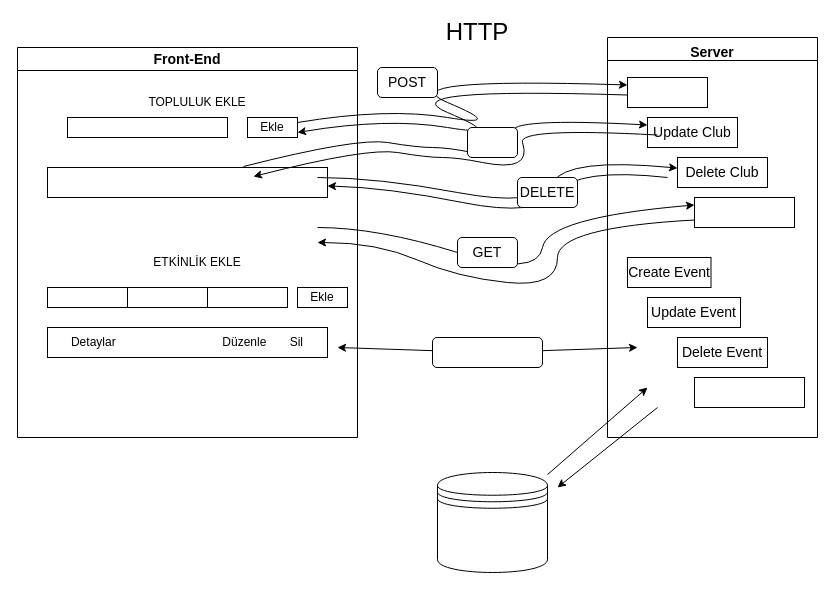
Image size: 835x590. Some labels were removed from this diagram. Each missing label, with the centre of its shape:
Create Club: the point at 667,92
Database Postgresql: the point at 492,522
PUT: the point at 492,142
Read all Clubs: the point at 744,212
Read all Events: the point at 749,392
Same Request with Club's: the point at 487,352
Topluluk Adı Düzenle Sil: the point at 187,182
